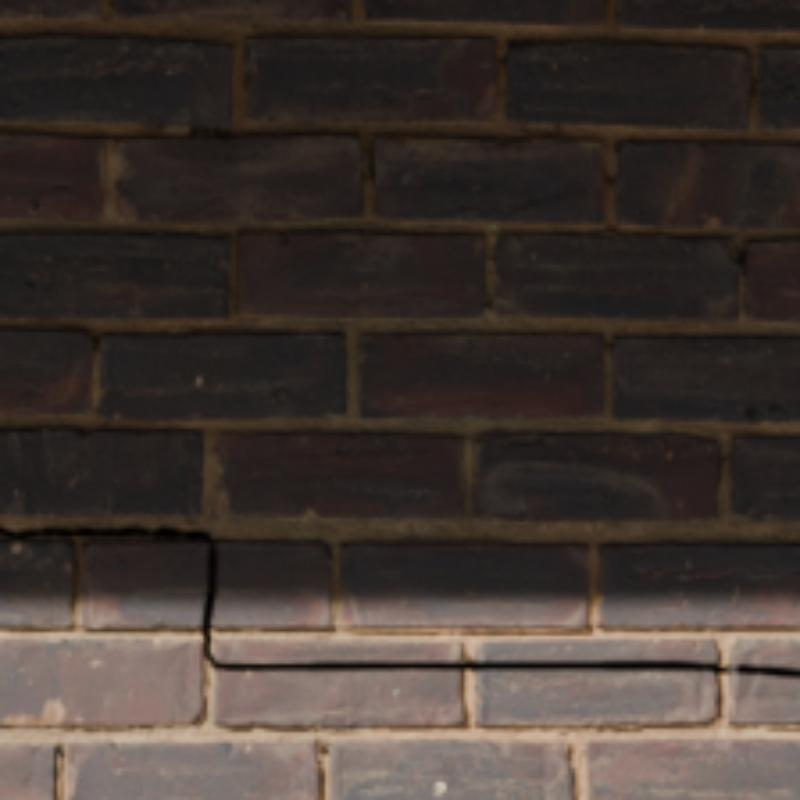pothole: (0, 525, 796, 675)
